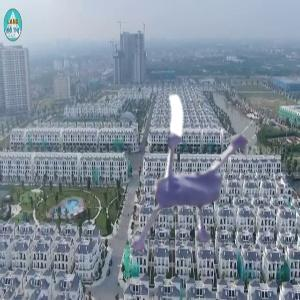drone: (91, 73, 287, 269)
